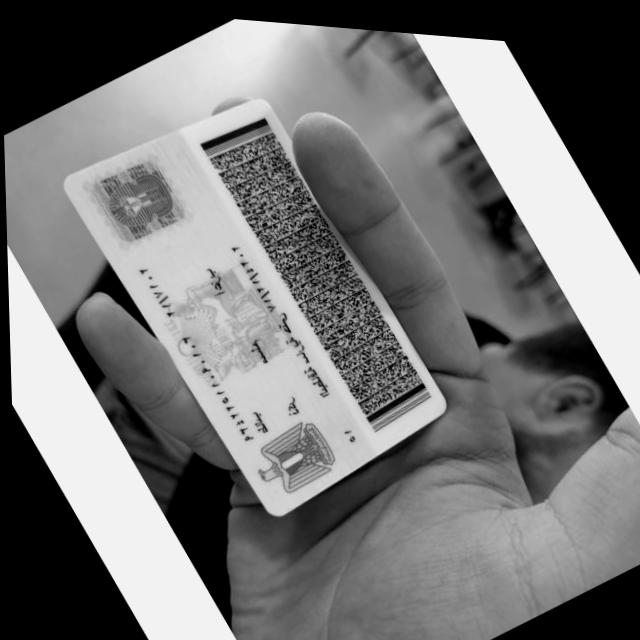id_card: (65, 101, 446, 516)
